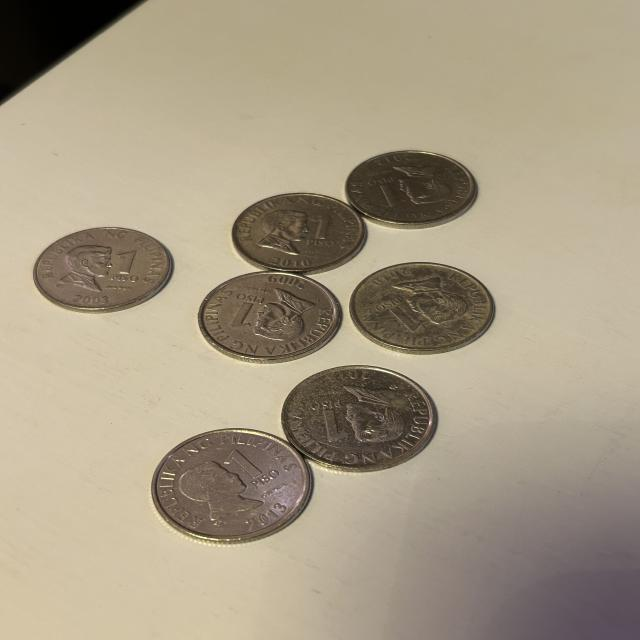1_Old_Front: (223, 447, 288, 494), (371, 299, 430, 339), (305, 395, 348, 447), (105, 247, 148, 284), (367, 174, 405, 214), (301, 213, 337, 249), (233, 289, 260, 334)
